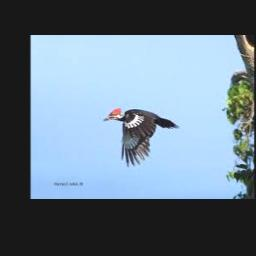Woodpecker: (103, 107, 180, 167)
